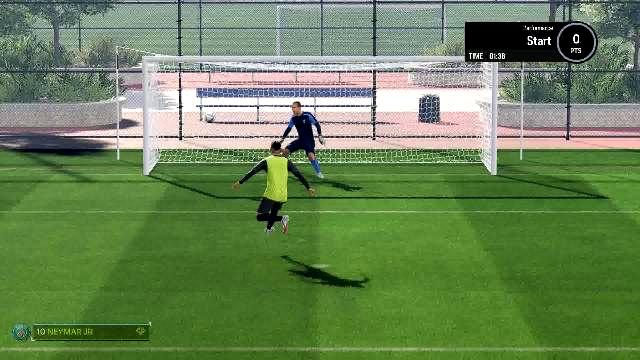bottom-left: (152, 122, 260, 176)
bottom-right: (376, 118, 490, 174)
center-down: (256, 121, 372, 177)
center-up: (259, 60, 375, 122)
football: (203, 110, 217, 122)
goalkeeper: (291, 99, 343, 180)
player: (252, 145, 316, 245)
top-left: (150, 62, 258, 118)
top-right: (376, 61, 490, 118)
